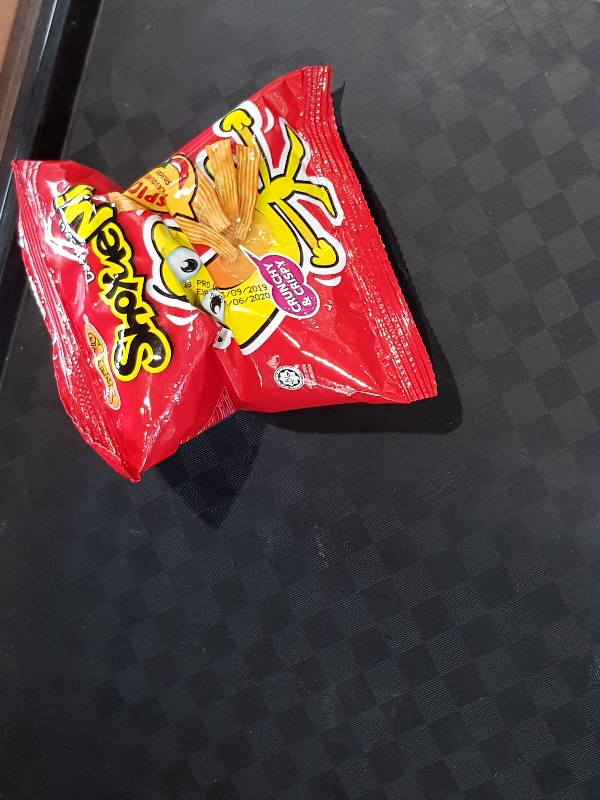ShoyueMi Spicy Flavoured Snacks: (9, 64, 443, 484)
